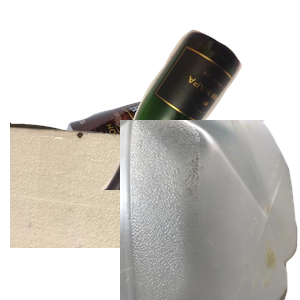glass: (87, 27, 300, 207)
metal: (60, 79, 300, 259)
plastic: (120, 120, 300, 300)
trash: (10, 120, 207, 300)
